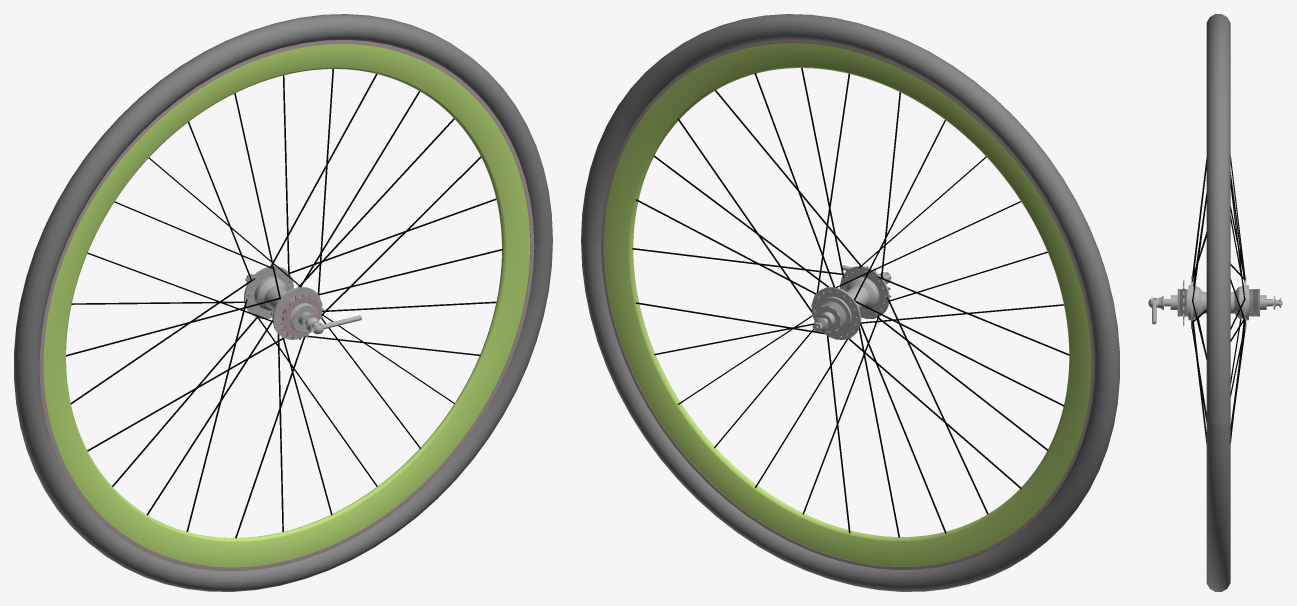
Rendered from WheelType2.glb.
The picture shows the model from 3 angles, left to right: view 1: azimuth 30°, elevation 25°; view 2: azimuth 150°, elevation 25°; view 3: azimuth 270°, elevation 25°; orthographic projection. The views are drawn at different scales.
Visible parts, largest first — view 1: no_transformations (×5); view 2: no_transformations (×5); view 3: no_transformations (×3).
Part boxes in pixels (<box>): no_transformations (×5): <box>14,14,552,591</box>; no_transformations (×5): <box>581,14,1119,591</box>; no_transformations (×3): <box>1148,14,1282,591</box>.
Size of the model in its own units: 743 by 743 by 173.
